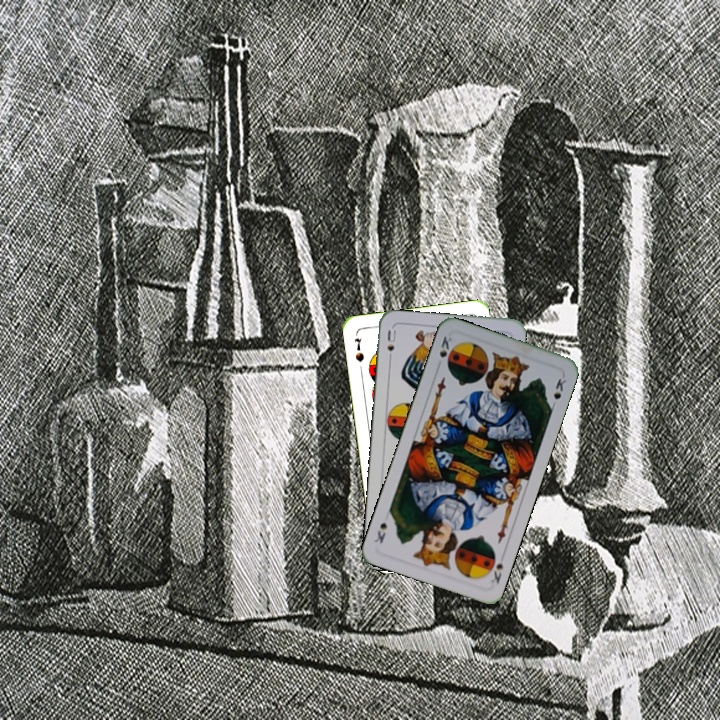S7: (350, 334, 367, 365)
SK: (487, 549, 507, 587), (435, 332, 454, 360)
SU: (383, 325, 399, 365)
